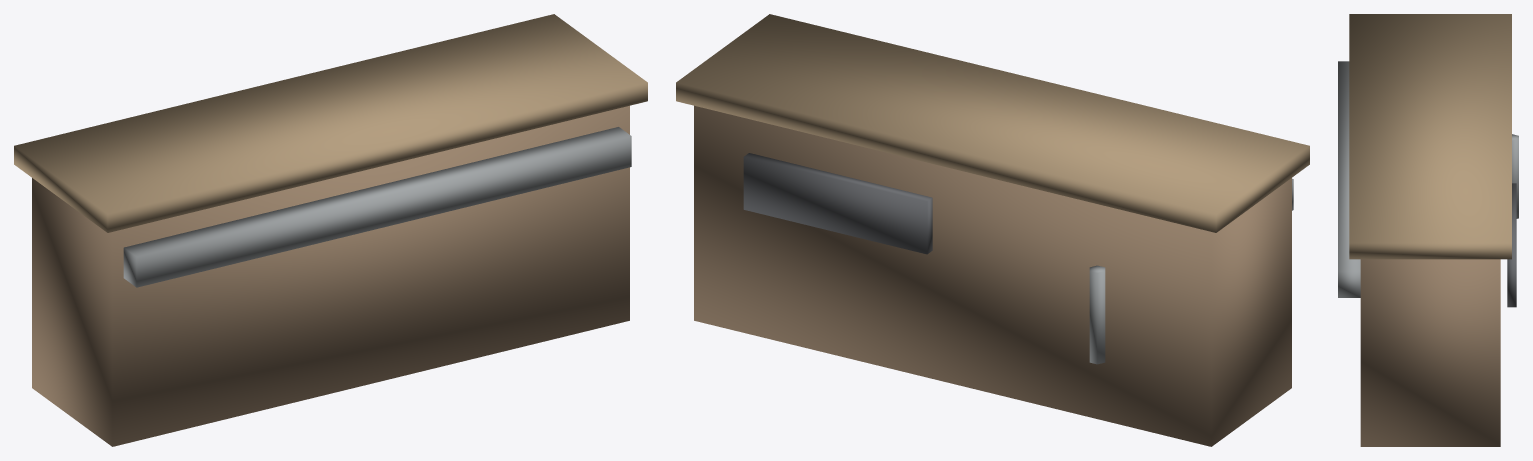
Rendered from bar_counter__service.glb.
3 renders of one model, left to right at view 1: azimuth 30°, elevation 25°; view 2: azimuth 150°, elevation 25°; view 3: azimuth 270°, elevation 25°, orthographic. The views are drawn at different scales.
Parts seen in each view (by area): view 1: world; view 2: world; view 3: world.
Part boxes in pixels (x1,y1,x2,y2): world: [14, 14, 647, 446]; world: [676, 14, 1309, 446]; world: [1338, 14, 1518, 446].
Size of the model in its own units: 2.4 by 1.02 by 0.8003.
